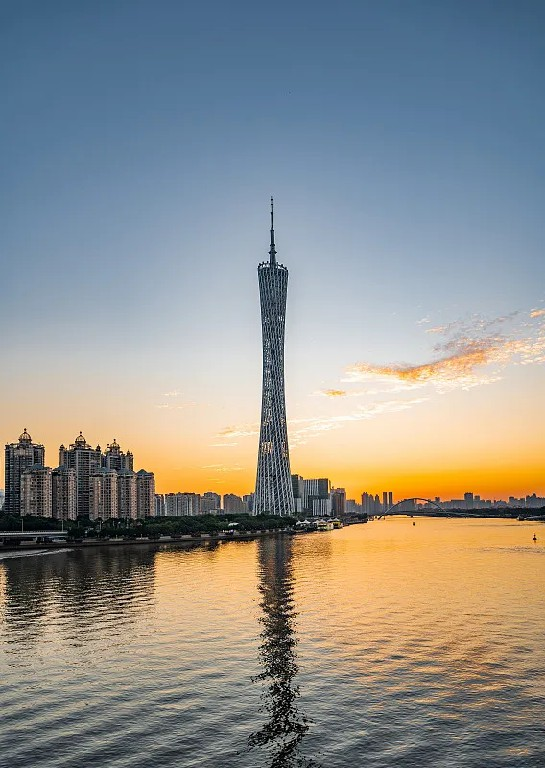Canton: (254, 194, 296, 516)
